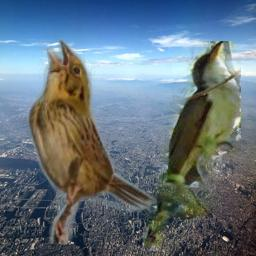Cuckoo: (143, 41, 241, 251)
Sparrow: (27, 38, 157, 244)
